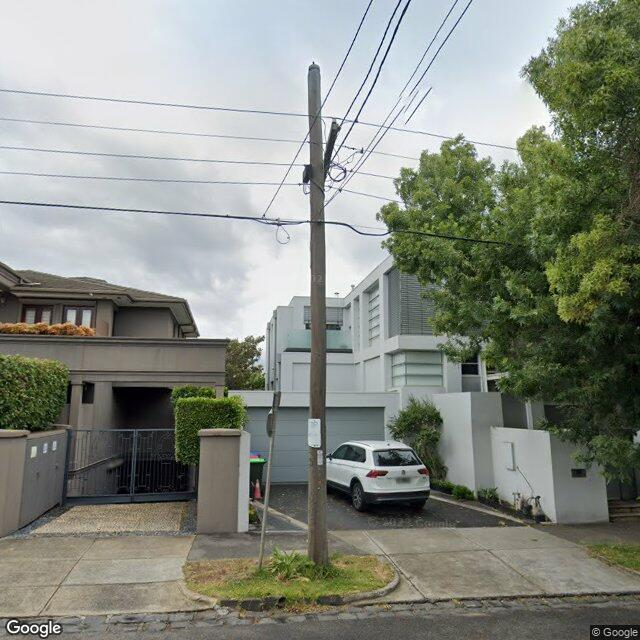crossarm: (325, 121, 339, 182)
timber-pole: (307, 65, 328, 568)
